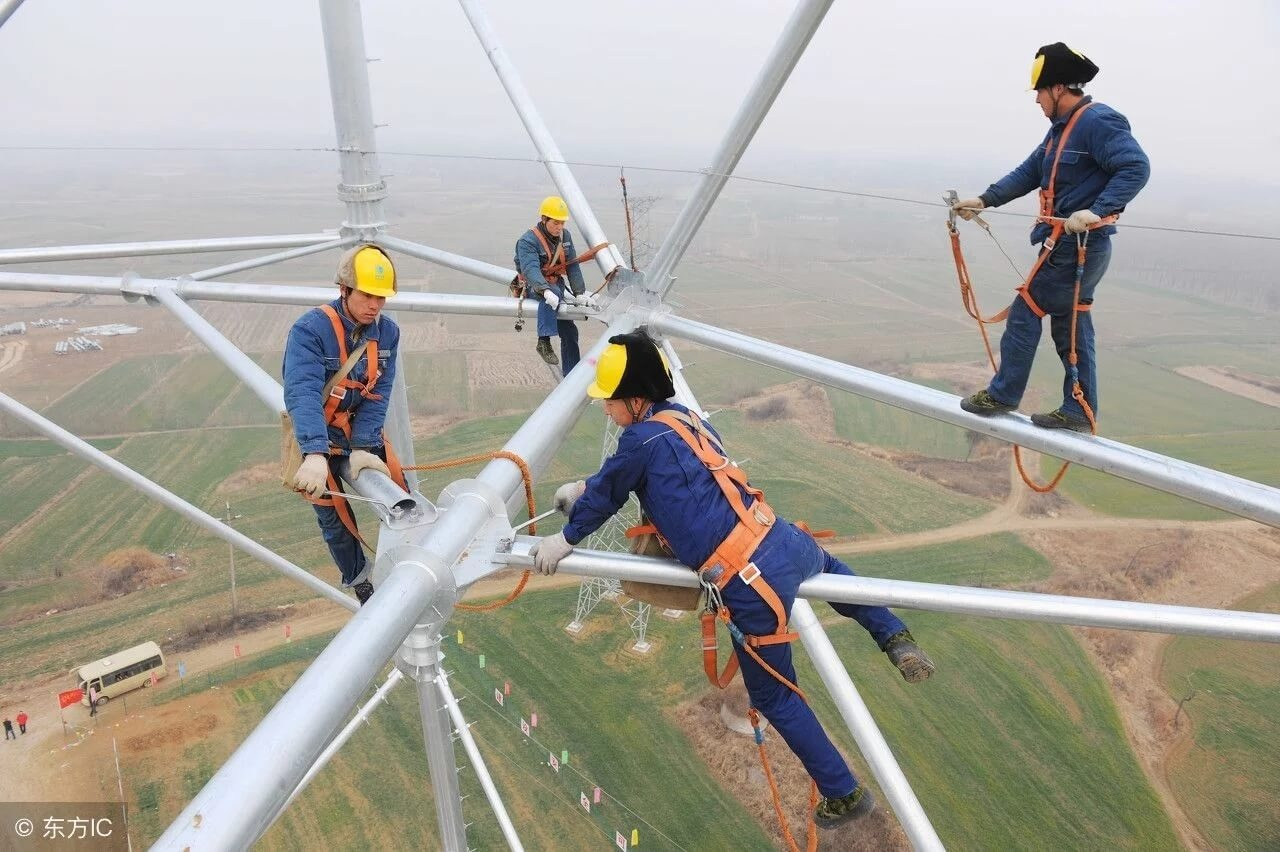yellow: (579, 328, 681, 428), (330, 242, 396, 327), (1027, 41, 1088, 123), (534, 193, 571, 241)
